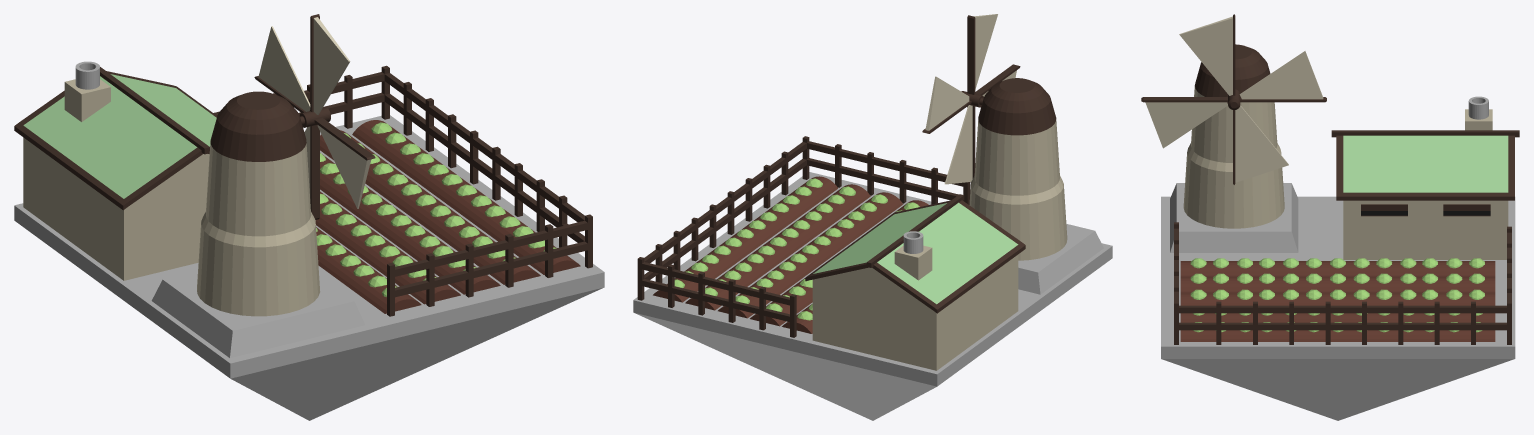
Rendered from Building Farm T3.fbx.
3 renders of one model, left to right at view 1: azimuth 30°, elevation 25°; view 2: azimuth 150°, elevation 25°; view 3: azimuth 270°, elevation 25°, orthographic. The views are drawn at different scales.
Visible parts, largest first — view 1: Farm T3; view 2: Farm T3; view 3: Farm T3.
Boxes of the visible parts, x1=… form: Farm T3: x1=14, y1=14, x2=604, y2=420; Farm T3: x1=633, y1=14, x2=1112, y2=420; Farm T3: x1=1141, y1=14, x2=1519, y2=420.
Bounding box in the file's own units: 1599 × 1904 × 1706.
